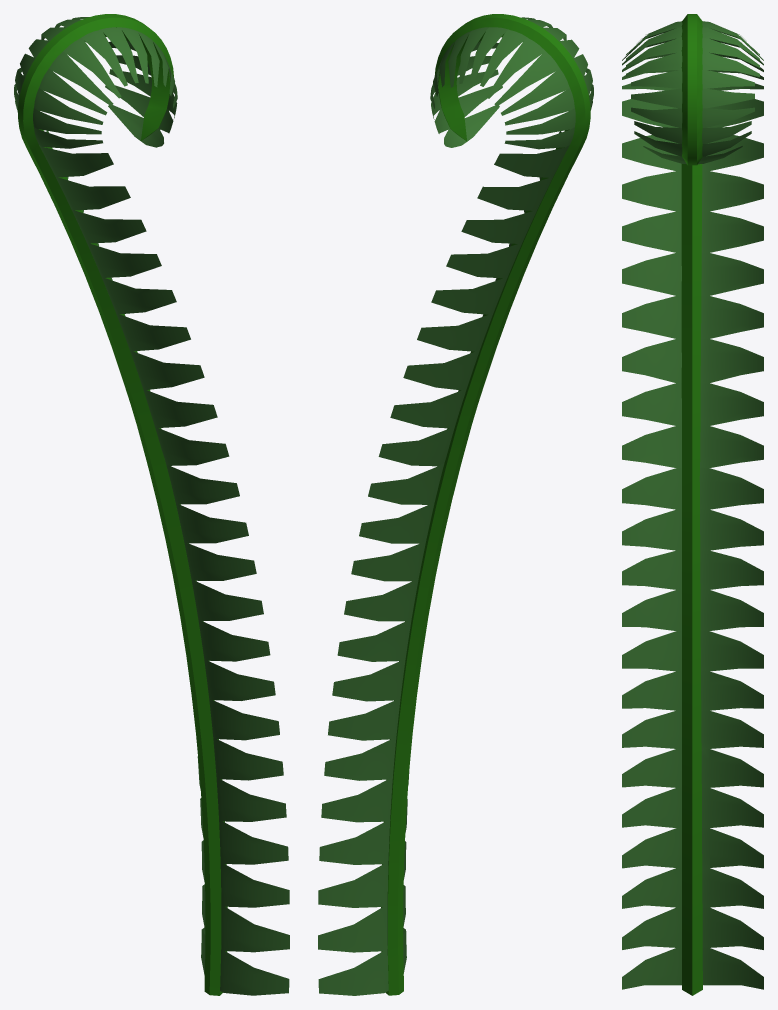
The model's file is FernBend_Final.fbx.
3 views of the same model, side by side, from view 1: azimuth 30°, elevation 25°; view 2: azimuth 150°, elevation 25°; view 3: azimuth 270°, elevation 25° (orthographic). The views are drawn at different scales.
Visible parts, largest first — view 1: FernLeav7; view 2: FernLeav7; view 3: FernLeav7.
Part boxes in pixels (<box>): FernLeav7: <box>14,14,289,995</box>; FernLeav7: <box>318,14,593,995</box>; FernLeav7: <box>622,14,763,995</box>.
Size of the model in its own units: 22.44 by 93.16 by 13.08.
